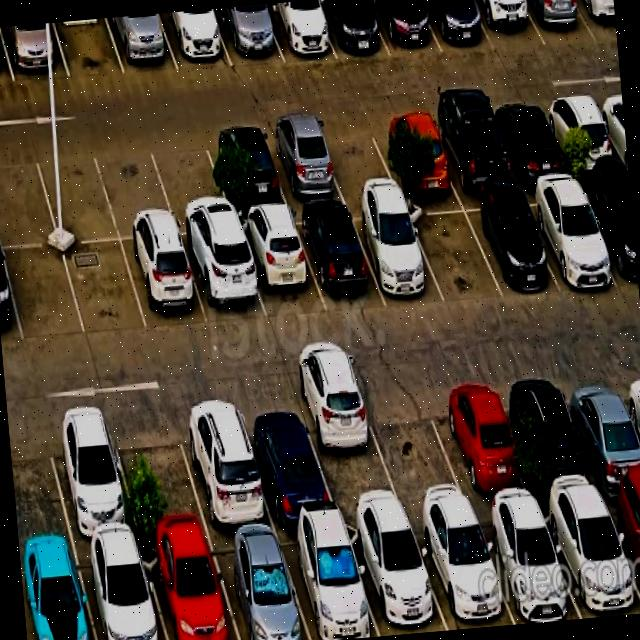empty: (361, 384, 472, 517), (108, 409, 209, 540), (300, 392, 405, 518), (404, 198, 502, 302), (147, 131, 234, 235), (7, 416, 72, 549), (33, 143, 119, 243), (94, 139, 177, 239), (63, 240, 147, 337), (3, 246, 85, 342), (314, 117, 398, 198), (0, 146, 58, 247), (54, 18, 124, 77)
occupied: (429, 377, 534, 509), (174, 397, 274, 533), (504, 371, 602, 503), (237, 398, 338, 526), (42, 411, 139, 543), (474, 506, 581, 624), (539, 496, 640, 618), (410, 512, 514, 630), (344, 520, 447, 636), (276, 524, 379, 640), (207, 532, 310, 640), (519, 180, 619, 288), (459, 192, 558, 296), (559, 368, 640, 495), (140, 536, 238, 640), (235, 211, 325, 321), (292, 205, 385, 311), (348, 202, 444, 303), (75, 541, 166, 640), (121, 236, 208, 331), (180, 232, 266, 324), (427, 105, 516, 190), (203, 126, 288, 212), (19, 546, 95, 640), (261, 122, 345, 205), (576, 177, 638, 288), (371, 111, 456, 189), (488, 98, 569, 179), (540, 93, 621, 172), (158, 8, 232, 70), (262, 0, 336, 61), (314, 0, 389, 58), (107, 13, 177, 74), (213, 4, 283, 65), (0, 22, 69, 81), (370, 0, 441, 57), (602, 491, 640, 595), (471, 0, 545, 52), (422, 0, 493, 52), (523, 0, 595, 45), (0, 244, 22, 344), (575, 0, 617, 40), (0, 31, 14, 82)
